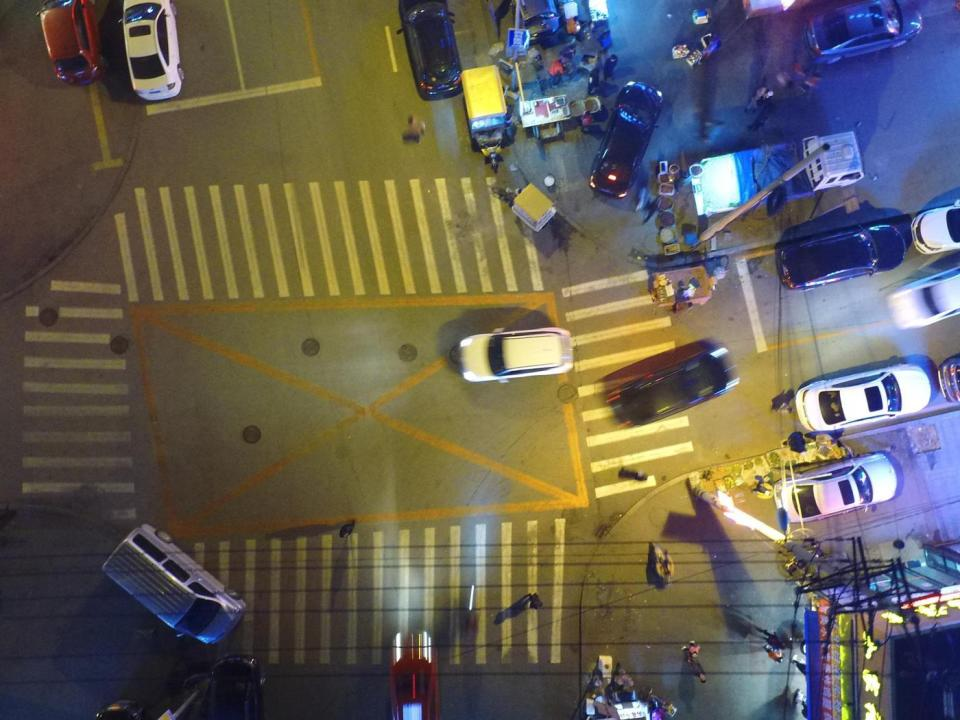car: (612, 343, 737, 428), (796, 363, 932, 437), (777, 217, 904, 293), (774, 450, 896, 526), (590, 80, 664, 200), (801, 0, 922, 68), (400, 0, 464, 99), (460, 327, 572, 381), (122, 0, 182, 99), (37, 0, 106, 84), (890, 264, 960, 329), (389, 628, 439, 719), (206, 656, 266, 720), (911, 205, 960, 254)
truck: (691, 136, 864, 215)
van: (102, 525, 247, 643), (518, 0, 558, 34)
